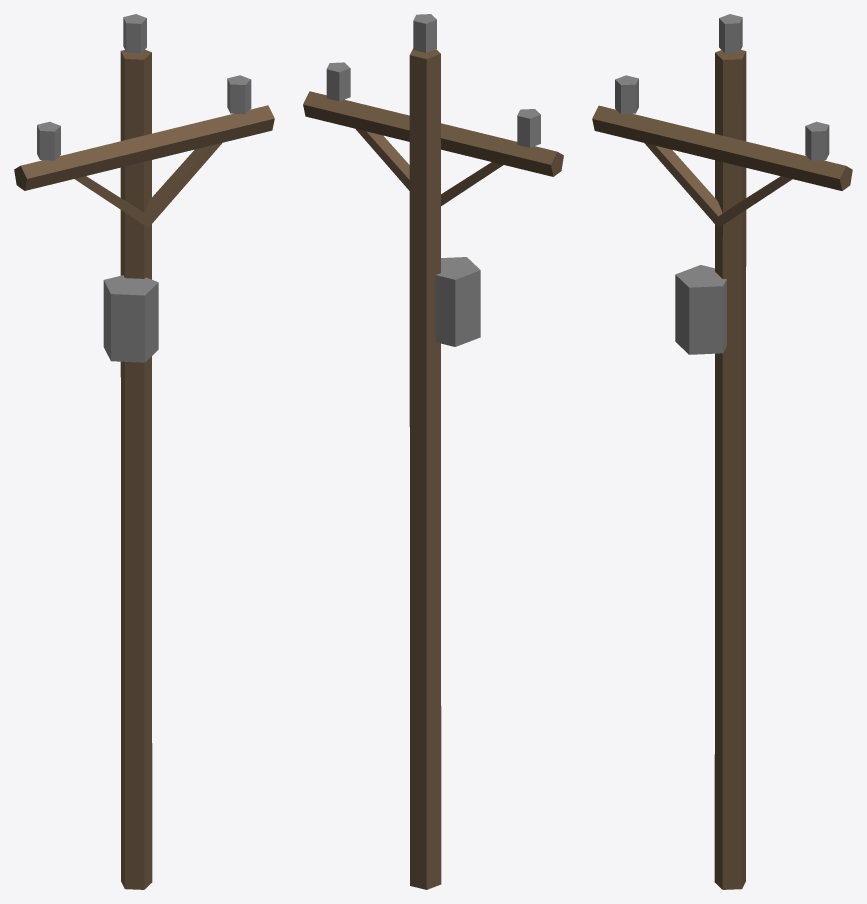
Rendered from Electric Pole.fbx.
The picture shows the model from 3 angles, left to right: view 1: azimuth 30°, elevation 25°; view 2: azimuth 150°, elevation 25°; view 3: azimuth 330°, elevation 25°; orthographic projection.
Parts seen in each view (by area): view 1: Electric Pole; view 2: Electric Pole; view 3: Electric Pole.
Part boxes in pixels (box(x1,y1,x2,y2)): Electric Pole: box(14, 14, 274, 889); Electric Pole: box(303, 14, 563, 889); Electric Pole: box(592, 14, 852, 889).
Bounding box in the file's own units: 0.6116 × 2.04 × 0.1376.
